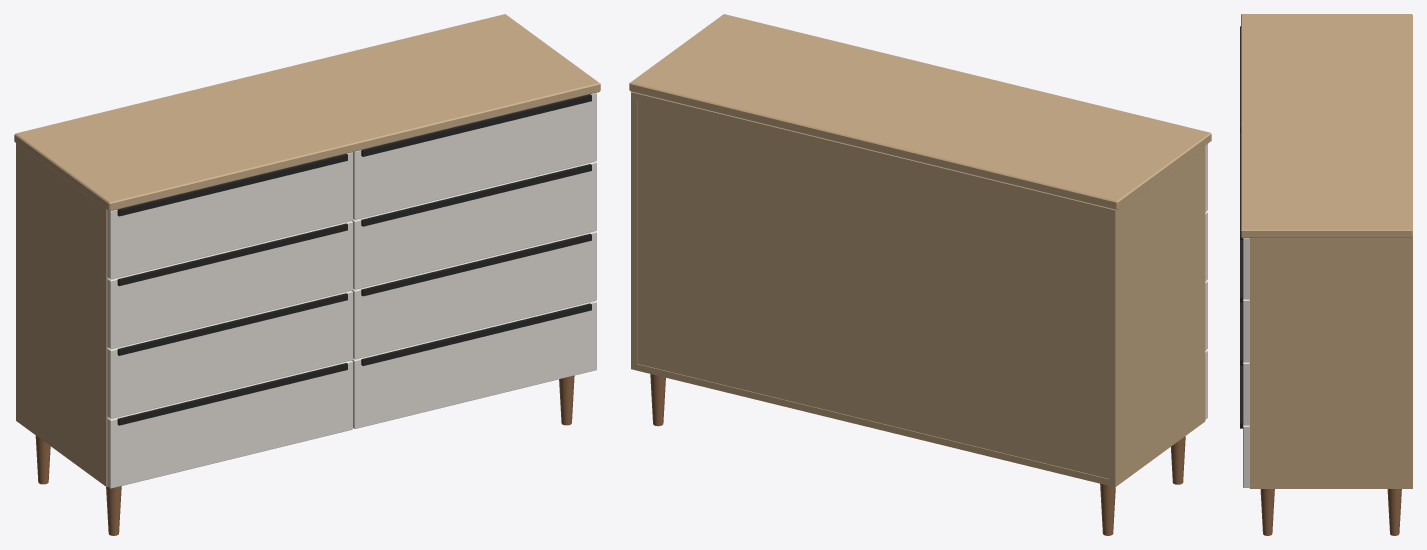
File: 48_komoda_140_2x4_frez.glb
The picture shows the model from 3 angles, left to right: view 1: azimuth 30°, elevation 25°; view 2: azimuth 150°, elevation 25°; view 3: azimuth 270°, elevation 25°; orthographic projection. The views are drawn at different scales.
Visible parts, largest first — view 1: Wierzch, Korpus, Front_szuflada_2, Front_szuflada_3, Front_szuflada_4, Front_szuflada_7, Front_szuflada_8, Front_szuflada_6, Front_szuflada_1, Front_szuflada_5, Uchwyty, Nogi; view 2: Korpus, Wierzch, Nogi; view 3: Korpus, Wierzch, Nogi, Uchwyty, Front_szuflada_6, Front_szuflada_7, Front_szuflada_8, Front_szuflada_5.
Part boxes in pixels (<box>): Wierzch: <box>14,14,600,211</box>; Korpus: <box>16,143,108,486</box>; Front_szuflada_2: <box>107,221,352,348</box>; Front_szuflada_3: <box>107,290,352,418</box>; Front_szuflada_4: <box>107,360,352,488</box>; Front_szuflada_7: <box>352,231,596,359</box>; Front_szuflada_8: <box>352,301,596,428</box>; Front_szuflada_6: <box>352,161,596,289</box>; Front_szuflada_1: <box>107,152,352,279</box>; Front_szuflada_5: <box>353,92,596,219</box>; Uchwyty: <box>117,94,591,425</box>; Nogi: <box>35,375,574,535</box>; Korpus: <box>631,91,1205,487</box>; Wierzch: <box>629,14,1211,209</box>; Nogi: <box>650,374,1185,535</box>; Korpus: <box>1249,237,1412,488</box>; Wierzch: <box>1241,14,1412,237</box>; Nogi: <box>1260,489,1401,535</box>; Uchwyty: <box>1240,26,1242,428</box>; Front_szuflada_6: <box>1243,299,1249,362</box>; Front_szuflada_7: <box>1243,362,1249,425</box>; Front_szuflada_8: <box>1243,425,1249,487</box>; Front_szuflada_5: <box>1243,238,1249,299</box>.
Bounding box in the file's own units: 1.41 × 0.95 × 0.476.
